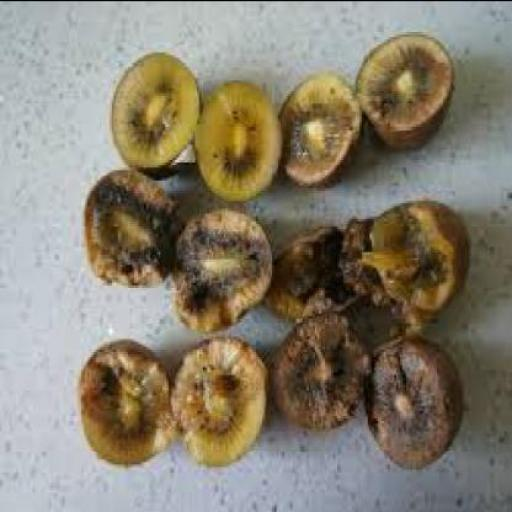biodegradable: (164, 202, 273, 333), (359, 326, 459, 464), (364, 194, 463, 328), (77, 336, 173, 468), (165, 336, 262, 464), (81, 161, 175, 287), (106, 48, 197, 176), (266, 307, 364, 425), (354, 28, 451, 146), (191, 74, 280, 200), (276, 69, 358, 182), (268, 220, 356, 315), (341, 208, 380, 304)
